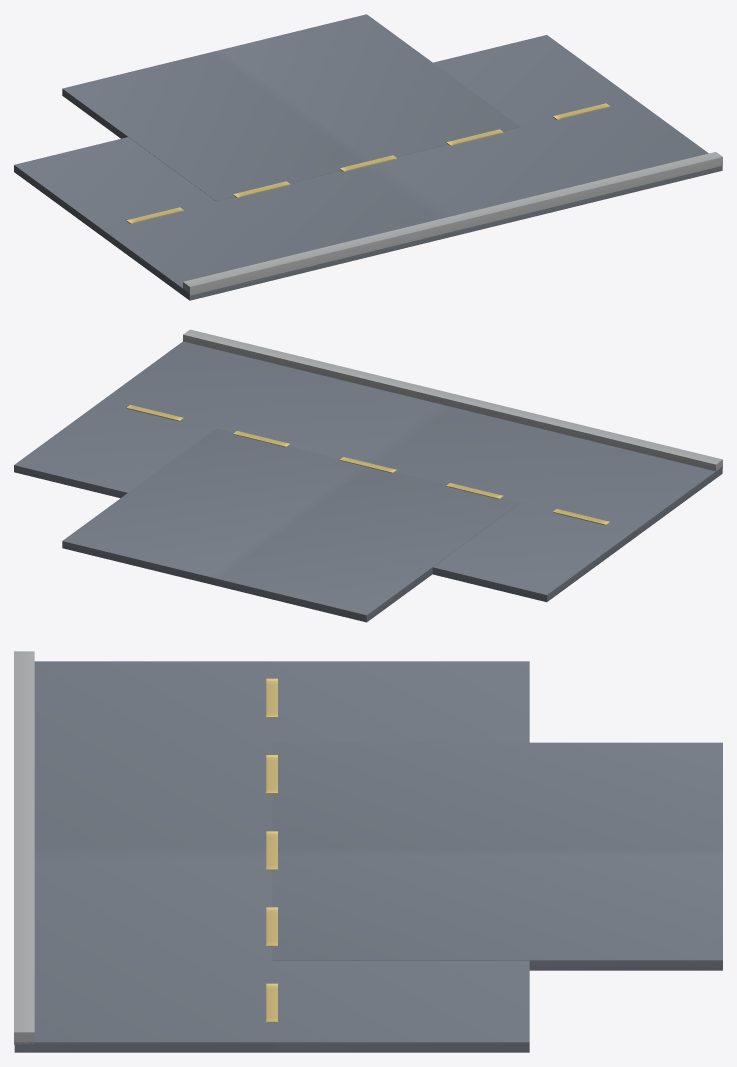
File: road_tjunction.glb
3 renders of one model, top to bottom at view 1: azimuth 30°, elevation 25°; view 2: azimuth 150°, elevation 25°; view 3: azimuth 270°, elevation 25°, orthographic. The views are drawn at different scales.
Visible parts, largest first — view 1: road_tjunction; view 2: road_tjunction; view 3: road_tjunction.
Part boxes in pixels (bbox=[...]): road_tjunction: bbox=[14, 14, 722, 300]; road_tjunction: bbox=[14, 329, 722, 622]; road_tjunction: bbox=[14, 651, 722, 1052].
Size of the model in its own units: 14 by 0.35 by 11.01.
Materials: 1 (1 with a texture image).
